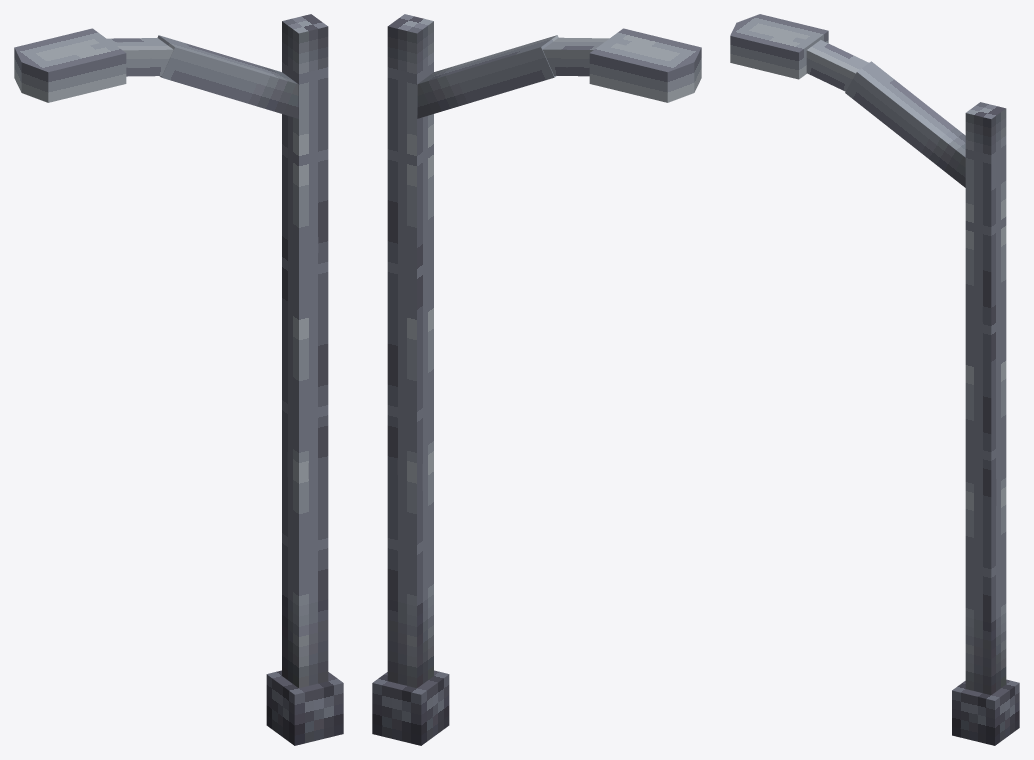
File: lamppost2.gltf
3 renders of one model, left to right at view 1: azimuth 30°, elevation 25°; view 2: azimuth 150°, elevation 25°; view 3: azimuth 330°, elevation 25°, orthographic. The views are drawn at different scales.
Visible parts, largest first — view 1: cube (×4), cuboid; view 2: cube (×4), cuboid; view 3: cube (×4), cuboid.
Part boxes in pixels (left/top/right/bottom): cube (×4): left=107, top=14, right=343, bottom=745; cuboid: left=14, top=28, right=126, bottom=102; cube (×4): left=372, top=14, right=609, bottom=745; cuboid: left=589, top=28, right=701, bottom=102; cube (×4): left=806, top=40, right=1019, bottom=745; cuboid: left=730, top=14, right=828, bottom=79.
Bounding box in the file's own units: 2.68 × 6.12 × 0.51.
1 material, 1 textured.
